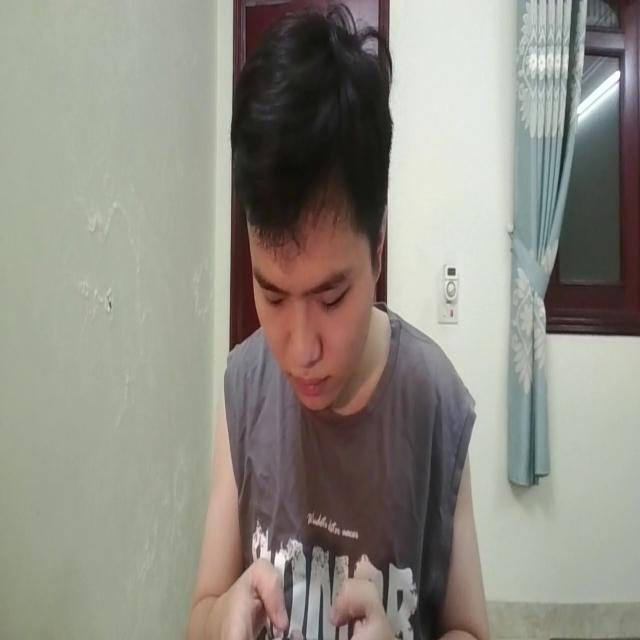student: (173, 10, 490, 640)
